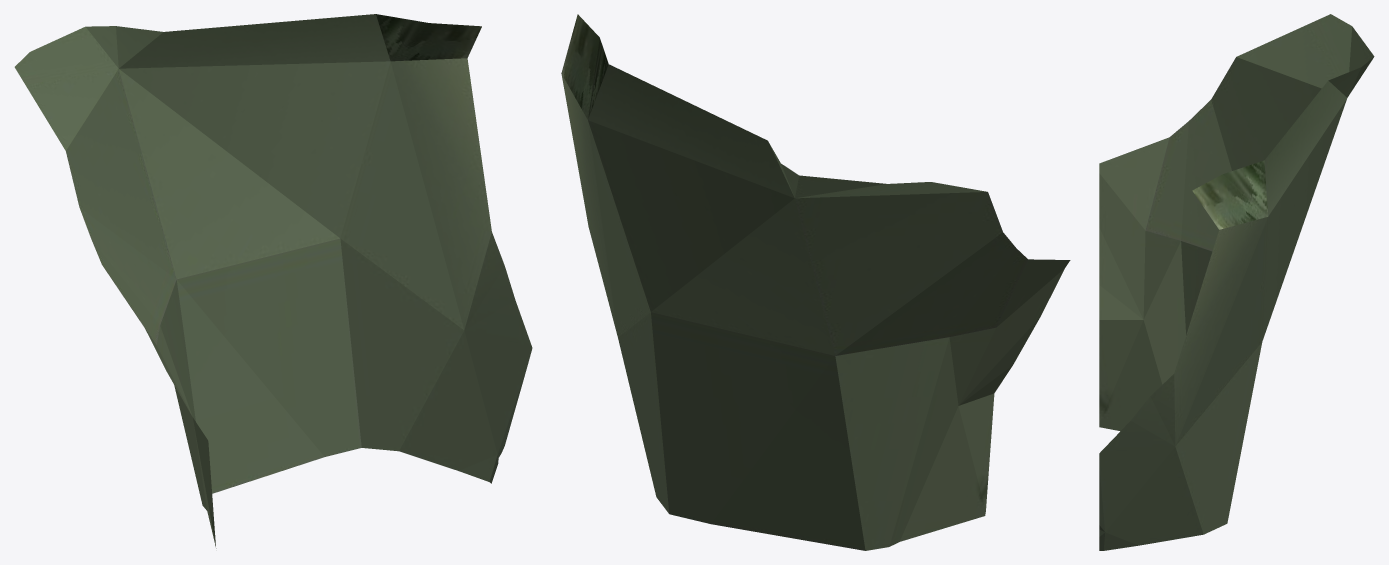
The picture shows the model from 3 angles, left to right: view 1: azimuth 30°, elevation 25°; view 2: azimuth 150°, elevation 25°; view 3: azimuth 270°, elevation 25°; orthographic projection. The views are drawn at different scales.
Size of the model in its own units: 2.95 by 2.95 by 1.94.
3 materials, 3 textured.
